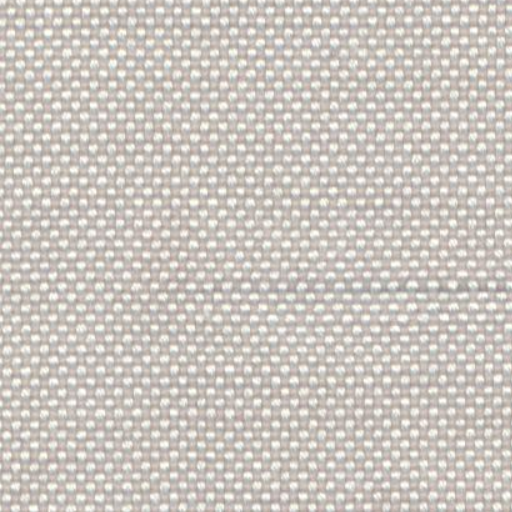WuZi: (217, 275, 496, 298)
